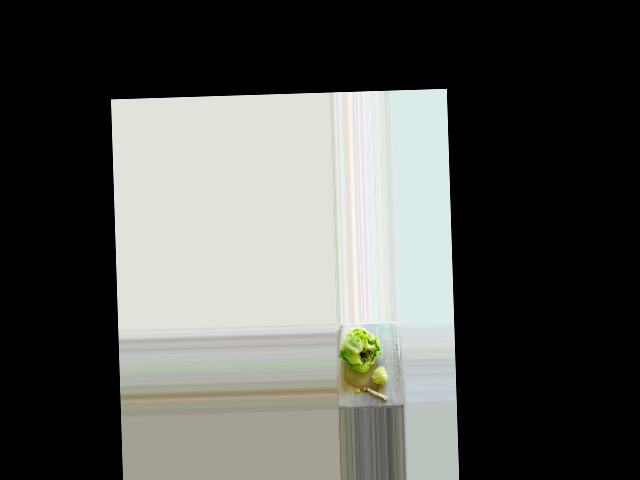lettuce: (340, 324, 381, 369)
